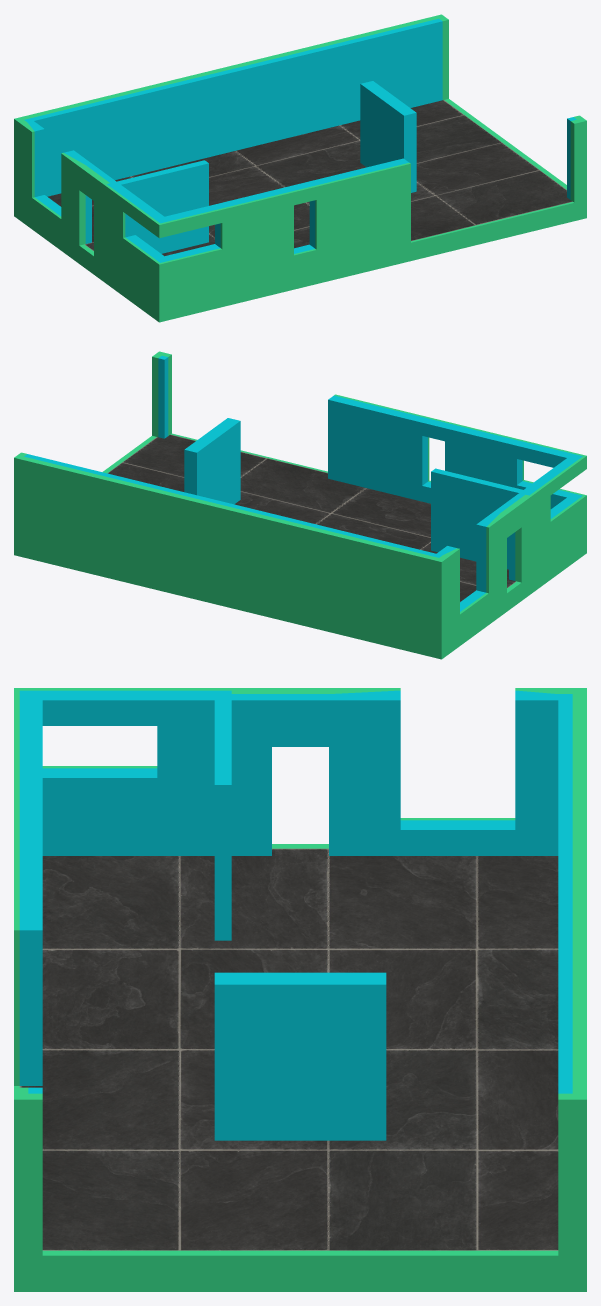
File: Floor0.fbx
The picture shows the model from 3 angles, top to bottom: view 1: azimuth 30°, elevation 25°; view 2: azimuth 150°, elevation 25°; view 3: azimuth 270°, elevation 25°; orthographic projection. The views are drawn at different scales.
Visible parts, largest first — view 1: F0_BasePlate, F0_Side_Wall_Complete, F0_Side_Wall_Kitchen_side, F0_Front_Wall_Stairs_Entrance, F0_Inner_Wall_Kitchen, F0_Front_Wall_Kitchen_side, F0_Stabilizer_Wall, F0_Back_Pillar; view 2: F0_Side_Wall_Complete, F0_BasePlate, F0_Side_Wall_Kitchen_side, F0_Front_Wall_Stairs_Entrance, F0_Inner_Wall_Kitchen, F0_Front_Wall_Kitchen_side, F0_Stabilizer_Wall, F0_Back_Pillar; view 3: F0_BasePlate, F0_Front_Wall_Stairs_Entrance, F0_Stabilizer_Wall, F0_Front_Wall_Kitchen_side, F0_Side_Wall_Complete, F0_Side_Wall_Kitchen_side, F0_Back_Pillar, F0_Inner_Wall_Kitchen.
Part boxes in pixels (<box>): F0_BasePlate: <box>14,99,586,322</box>; F0_Side_Wall_Complete: <box>14,14,448,202</box>; F0_Side_Wall_Kitchen_side: <box>152,158,410,303</box>; F0_Front_Wall_Stairs_Entrance: <box>21,121,115,263</box>; F0_Inner_Wall_Kitchen: <box>117,160,208,253</box>; F0_Front_Wall_Kitchen_side: <box>104,181,164,298</box>; F0_Stabilizer_Wall: <box>360,81,416,192</box>; F0_Back_Pillar: <box>567,115,586,202</box>; F0_Side_Wall_Complete: <box>14,452,448,640</box>; F0_BasePlate: <box>14,433,586,659</box>; F0_Side_Wall_Kitchen_side: <box>328,394,586,539</box>; F0_Front_Wall_Stairs_Entrance: <box>436,493,531,635</box>; F0_Inner_Wall_Kitchen: <box>431,468,522,569</box>; F0_Front_Wall_Kitchen_side: <box>519,458,579,574</box>; F0_Stabilizer_Wall: <box>184,418,240,504</box>; F0_Back_Pillar: <box>152,351,171,438</box>; F0_BasePlate: <box>14,844,586,1291</box>; F0_Front_Wall_Stairs_Entrance: <box>231,688,558,855</box>; F0_Stabilizer_Wall: <box>214,972,386,1140</box>; F0_Front_Wall_Kitchen_side: <box>42,688,231,855</box>; F0_Side_Wall_Complete: <box>558,688,586,1255</box>; F0_Side_Wall_Kitchen_side: <box>14,688,42,1085</box>; F0_Back_Pillar: <box>14,1087,42,1255</box>; F0_Inner_Wall_Kitchen: <box>214,700,231,940</box>.
Size of what is drawn, in the model's own units: 1700 by 370 by 1000.
